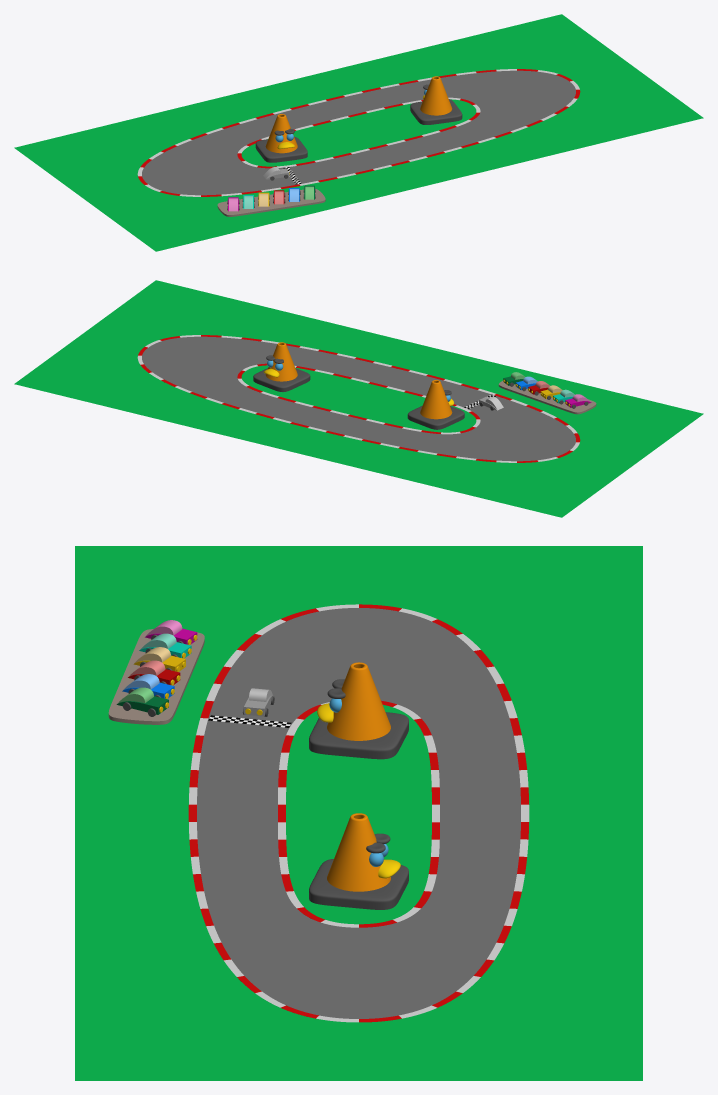
Rendered from Track004.fbx.
3 views of the same model, one above another, from view 1: azimuth 30°, elevation 25°; view 2: azimuth 150°, elevation 25°; view 3: azimuth 270°, elevation 25° (orthographic). The views are drawn at different scales.
Visible parts, largest first — view 1: Ground.001, Track.001, Island_00, VehicleRoad, BigConeTop.002, BigConeBase.001, BigConeBase.002, BigConeTop.001; view 2: Ground.001, Track.001, Island_00, BigConeTop.001, VehicleRoad, BigConeBase.001, BigConeBase.002, BigConeTop.002; view 3: Ground.001, Track.001, Island_00, BigConeTop.001, BigConeTop.002, VehicleRoad, BigConeBase.002, BigConeBase.001, SlopeCarGreen.
Part boxes in pixels (left/top/right/bottom): Ground.001: left=14, top=14, right=703, bottom=251; Track.001: left=142, top=70, right=575, bottom=195; Island_00: left=241, top=99, right=476, bottom=166; VehicleRoad: left=217, top=189, right=325, bottom=216; BigConeTop.002: left=420, top=76, right=452, bottom=115; BigConeBase.001: left=255, top=136, right=307, bottom=162; BigConeBase.002: left=410, top=99, right=462, bottom=124; BigConeTop.001: left=265, top=114, right=297, bottom=153; Ground.001: left=14, top=280, right=703, bottom=517; Track.001: left=142, top=336, right=575, bottom=461; Island_00: left=241, top=365, right=476, bottom=432; BigConeTop.001: left=420, top=380, right=452, bottom=419; VehicleRoad: left=498, top=380, right=596, bottom=414; BigConeBase.001: left=407, top=405, right=464, bottom=429; BigConeBase.002: left=253, top=368, right=310, bottom=391; BigConeTop.002: left=265, top=342, right=297, bottom=381; Ground.001: left=75, top=546, right=642, bottom=1080; Track.001: left=197, top=608, right=520, bottom=1018; Island_00: left=286, top=705, right=431, bottom=924; BigConeTop.001: left=327, top=662, right=390, bottom=740; BigConeTop.002: left=327, top=813, right=390, bottom=891; VehicleRoad: left=108, top=629, right=204, bottom=724; BigConeBase.002: left=309, top=859, right=408, bottom=909; BigConeBase.001: left=309, top=712, right=408, bottom=759; SlopeCarGreen: left=116, top=687, right=168, bottom=716.
Size of the model in its own units: 156 by 70.09 by 9.86.
